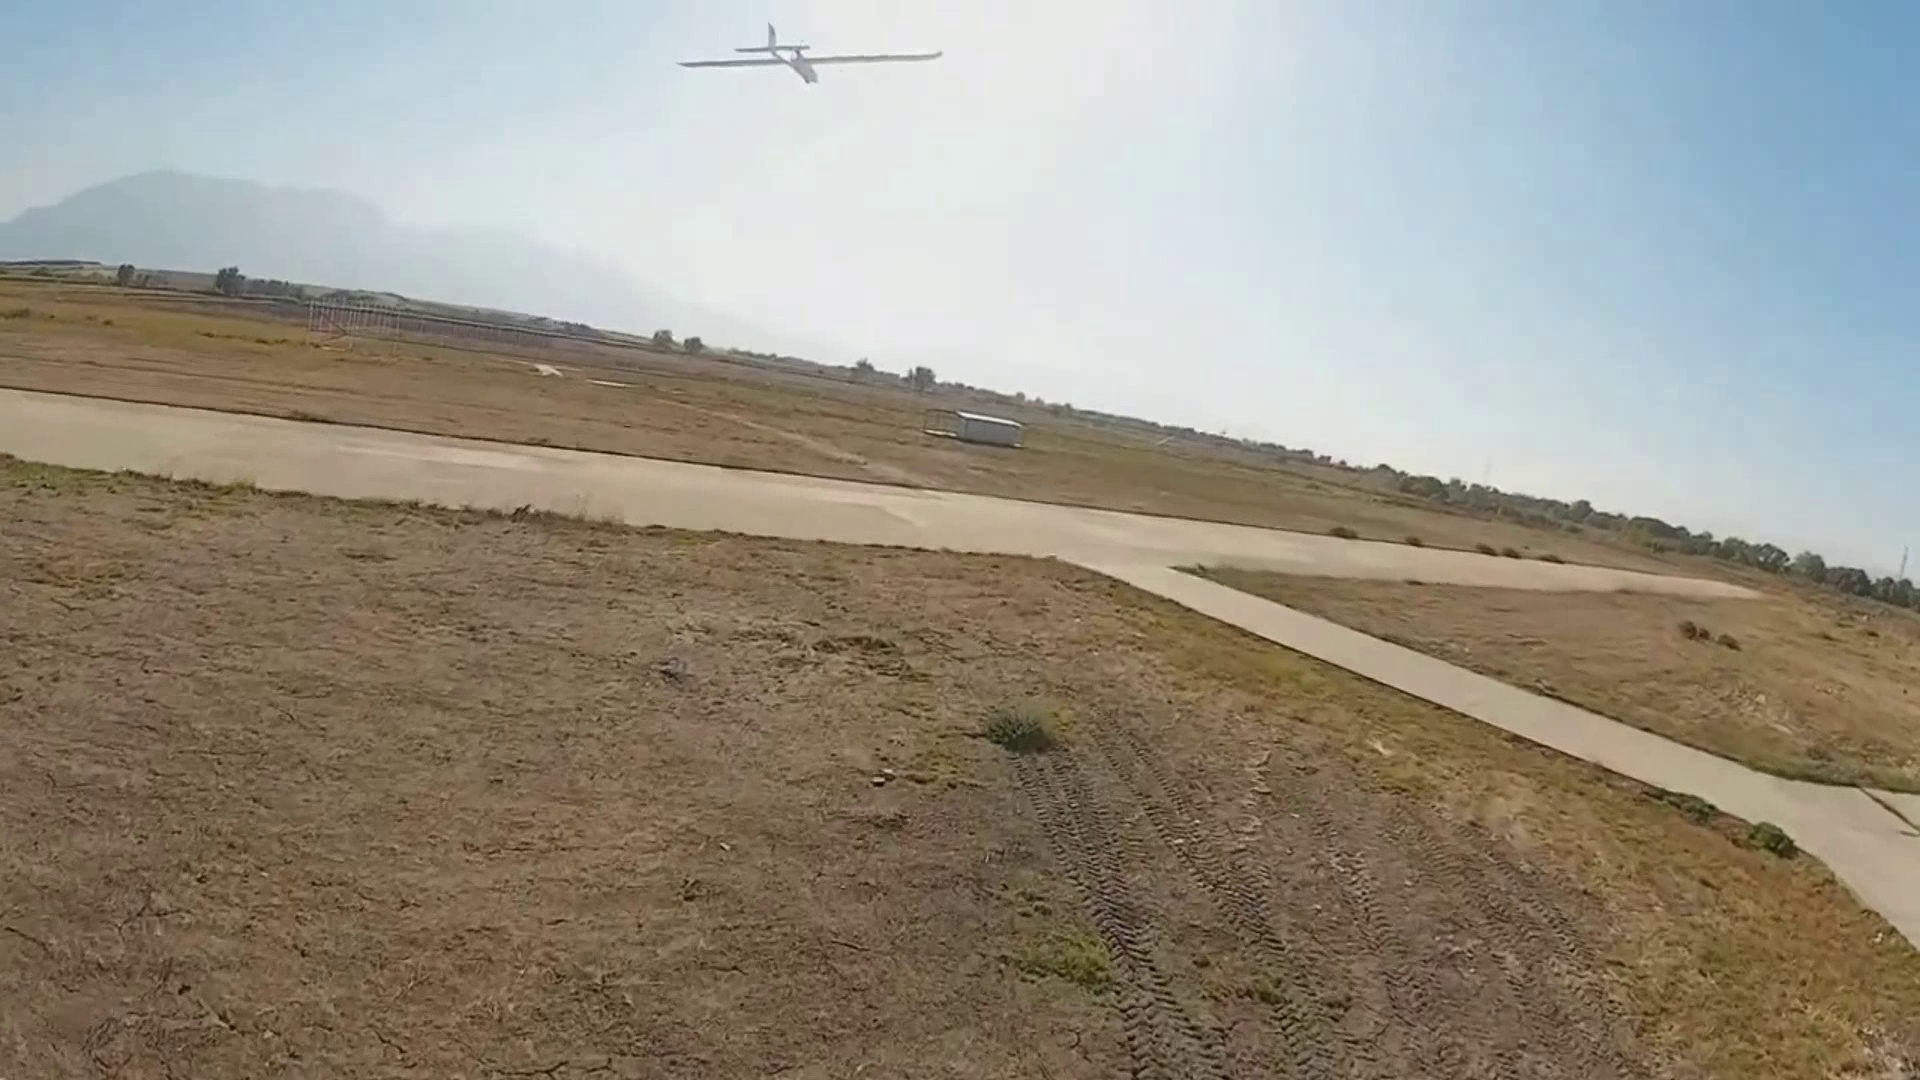airplane: (675, 22, 944, 85)
